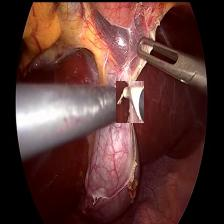Grasper: (136, 30, 206, 83)
Hook: (115, 80, 143, 122)
